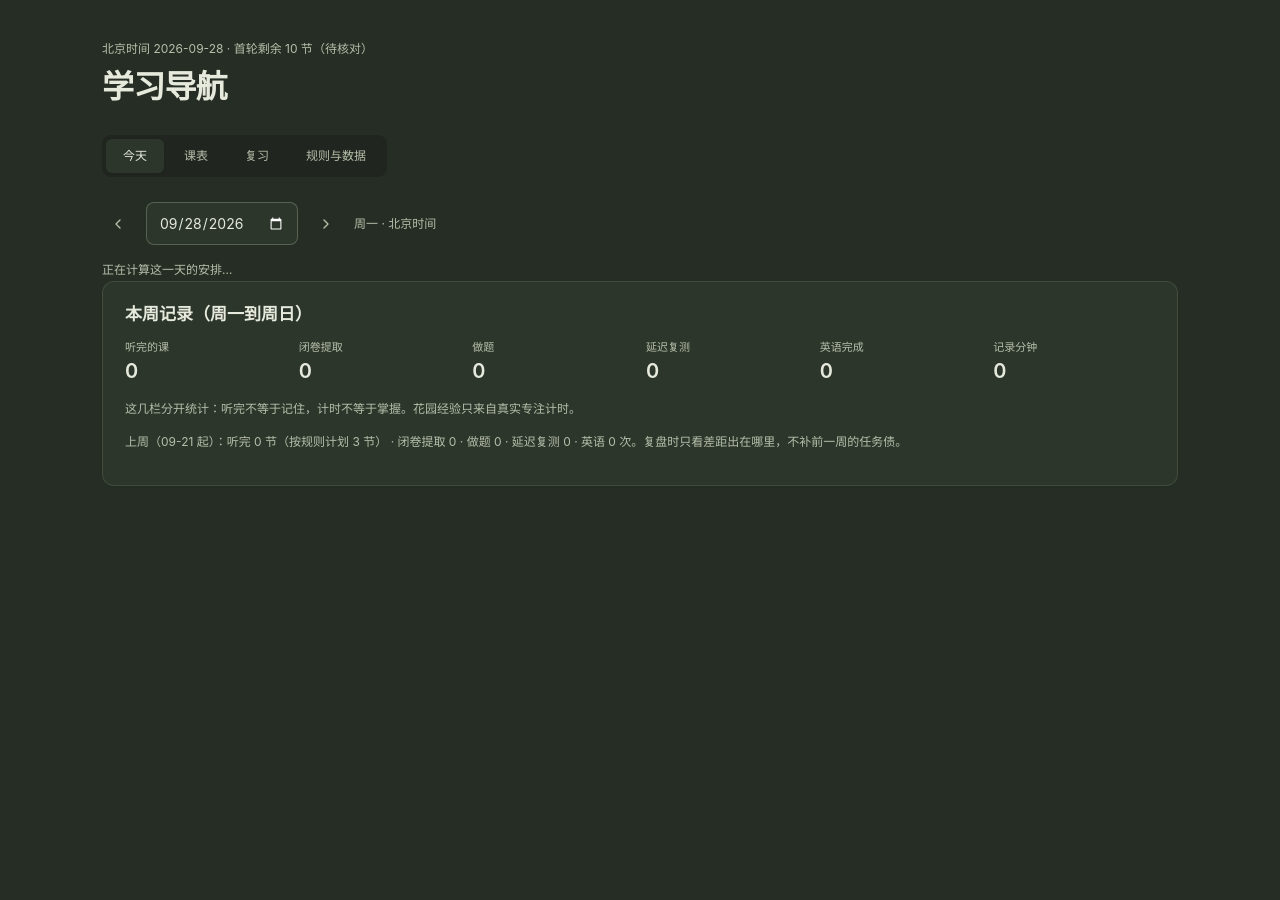
Test: 学习导航 page › each term shows its own confirmed weeks when switching, so saving never mixes them up
The width and height of the screenshot is (1280, 900).
Step 1. Click the button "课表" → [196, 156], box [167, 139, 225, 173]
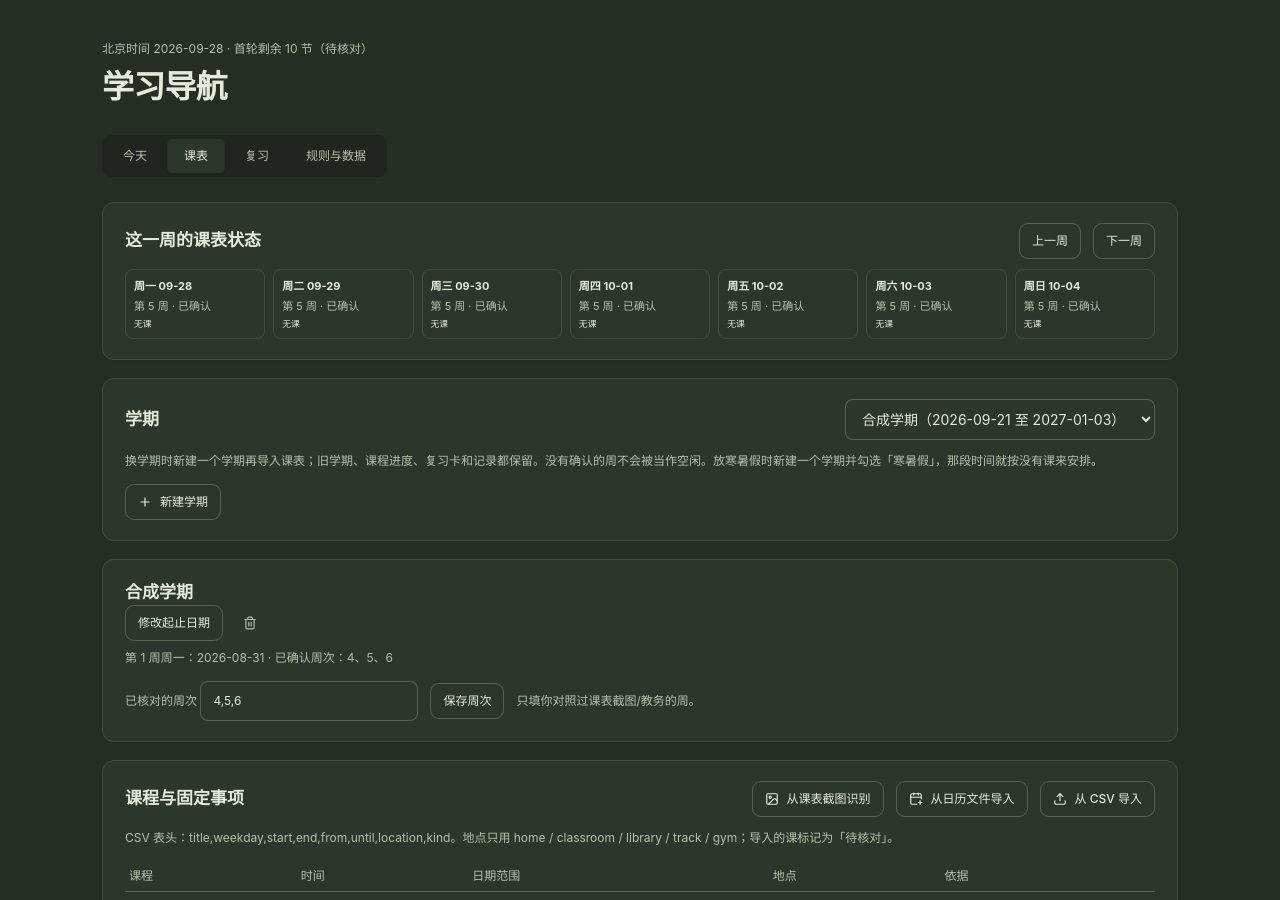
expect the heading "合成学期" is shown: met, box [125, 582, 193, 602]
expect the field labelled "已核对的周次" holds "4,5,6": met, box [200, 681, 418, 721]
Step 2. Select "下学期（2027-02-22 至 2027-07-25）" in the dropdown named "选择学期" → [1000, 420], box [845, 399, 1155, 440]
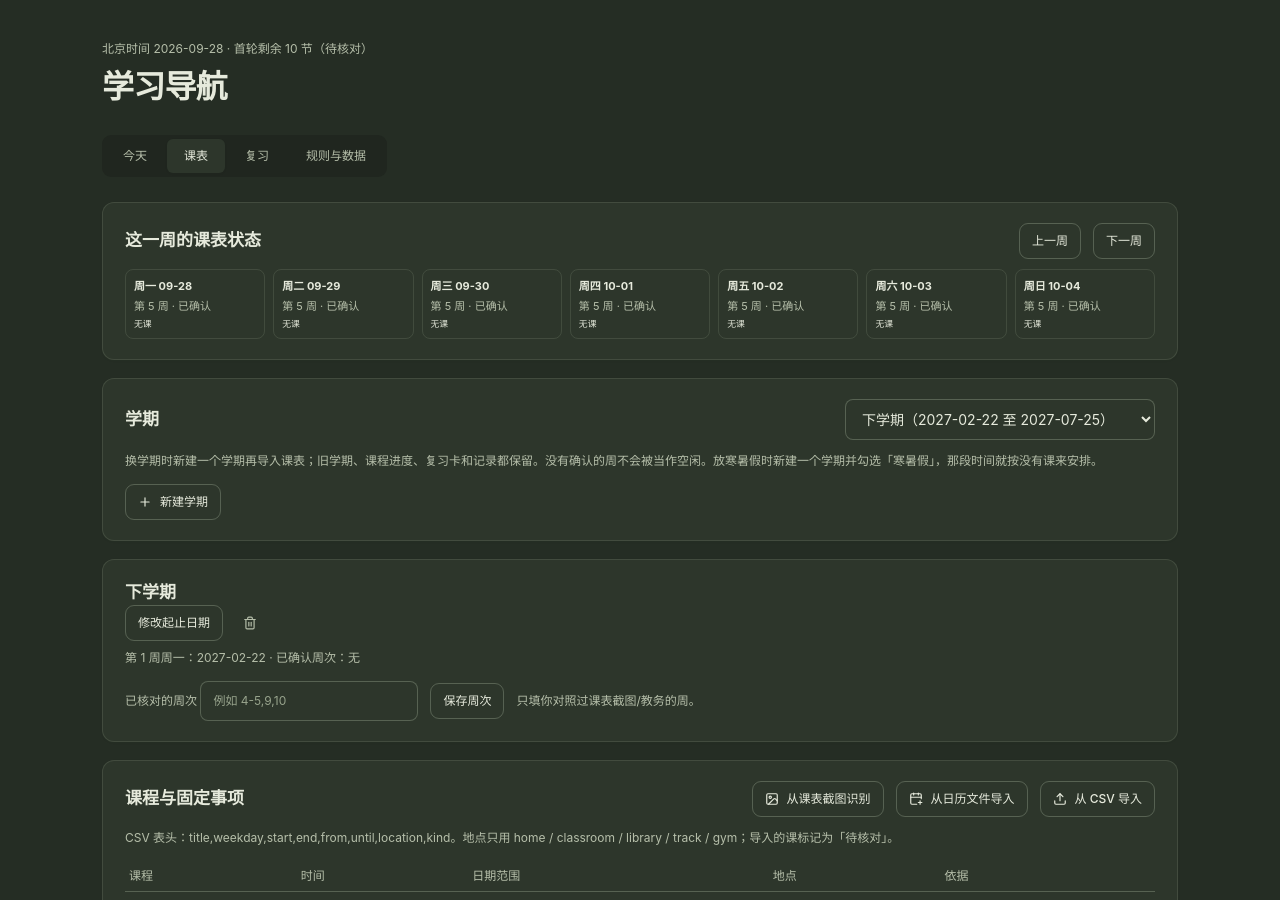
expect the heading "下学期" is shown: met, box [125, 582, 176, 602]
expect the field labelled "已核对的周次" is empty: met, box [200, 681, 418, 721]
Step 3. Select "合成学期（2026-09-21 至 2027-01-03）" in the dropdown named "选择学期" → [1000, 420], box [845, 399, 1155, 440]
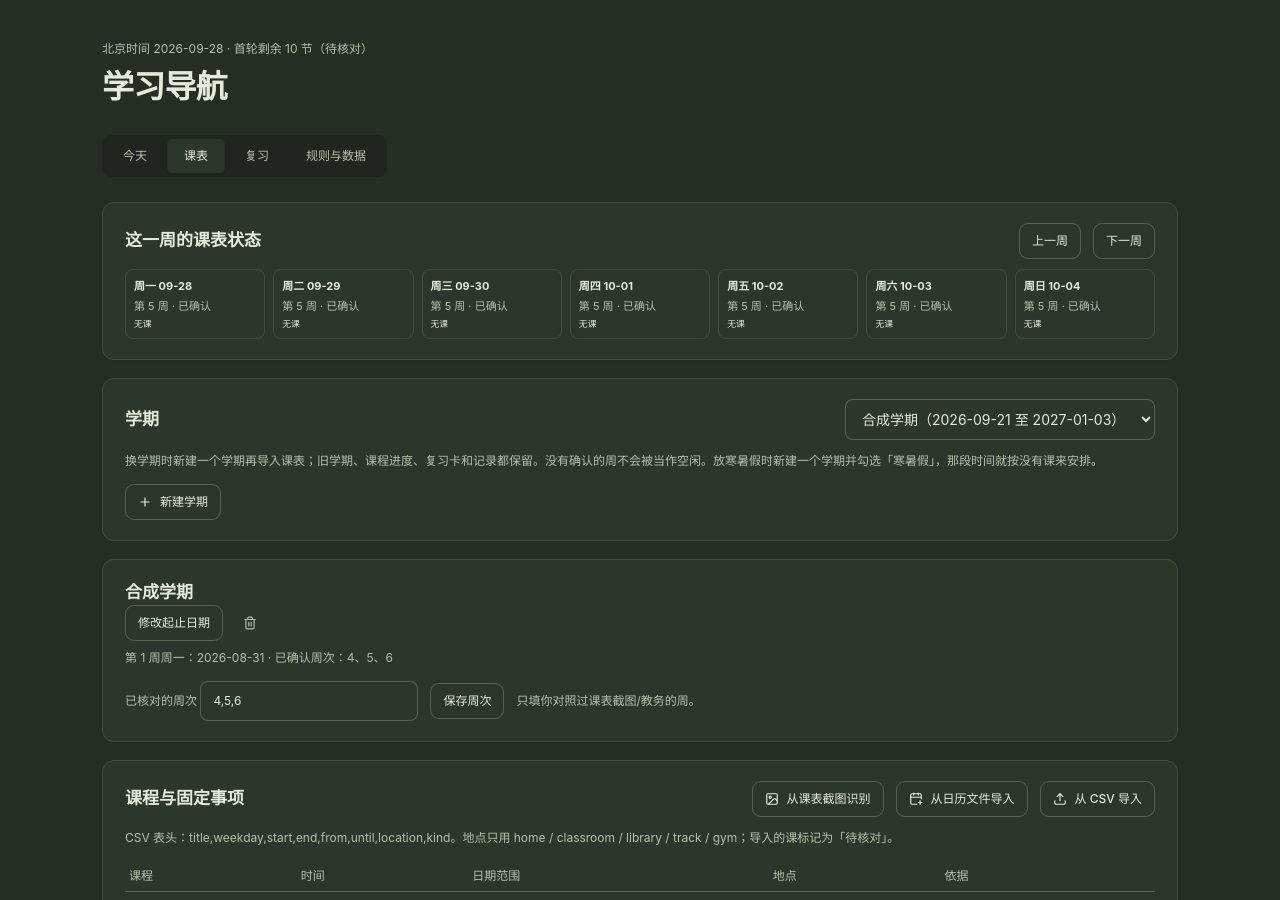
expect the heading "合成学期" is shown: met, box [125, 582, 193, 602]
expect the field labelled "已核对的周次" holds "4,5,6": met, box [200, 681, 418, 721]
